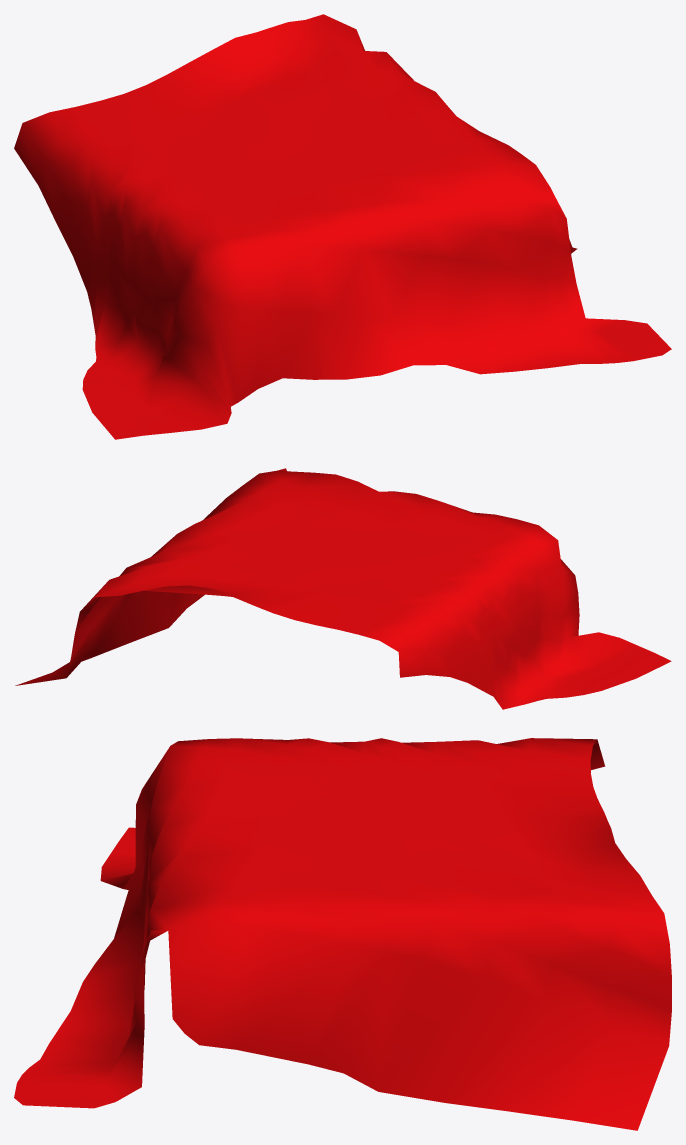
The model's file is Blanket.fbx.
3 views of the same model, one above another, from view 1: azimuth 30°, elevation 25°; view 2: azimuth 150°, elevation 25°; view 3: azimuth 270°, elevation 25° (orthographic). The views are drawn at different scales.
Visible parts, largest first — view 1: Blanket; view 2: Blanket; view 3: Blanket.
Part boxes in pixels (left/top/right/bottom): Blanket: left=14, top=14, right=671, bottom=439; Blanket: left=15, top=468, right=671, bottom=709; Blanket: left=14, top=738, right=671, bottom=1130.
Size of the model in its own units: 221 by 62.07 by 202.
